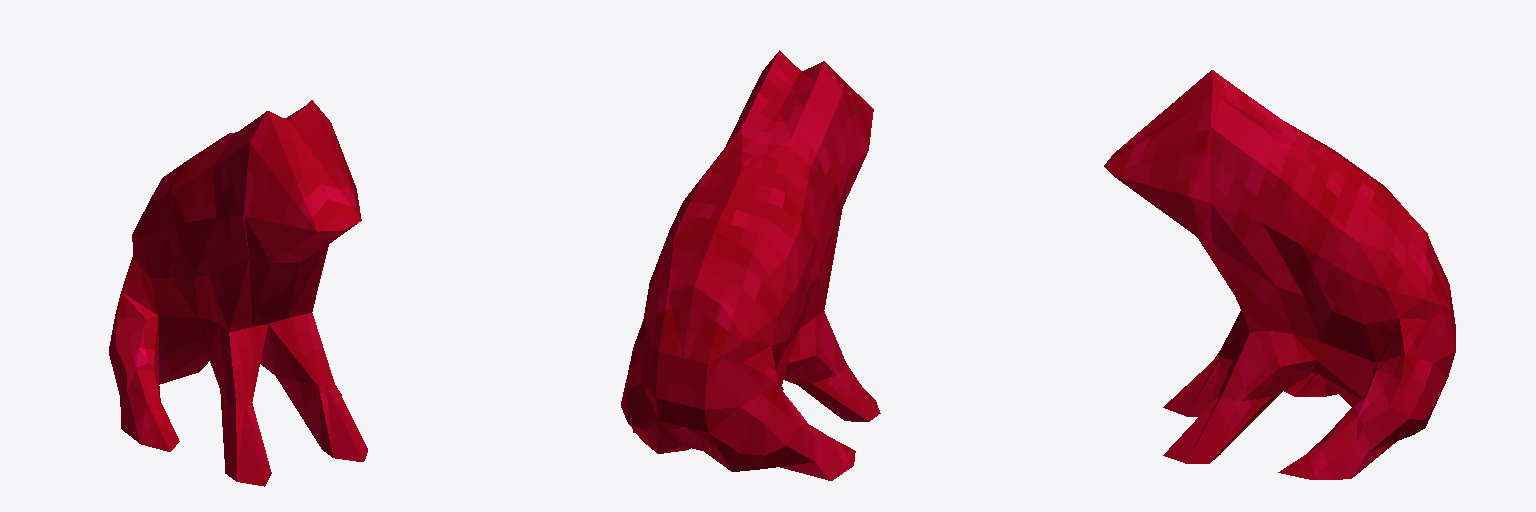
3 views of the same model, side by side, from view 1: azimuth 30°, elevation 25°; view 2: azimuth 150°, elevation 25°; view 3: azimuth 270°, elevation 25° (orthographic).
Parts seen in each view (by area): view 1: Frog_Cube; view 2: Frog_Cube; view 3: Frog_Cube.
Boxes of the visible parts, box(x1,y1,x2,y2) form: Frog_Cube: box(109, 100, 367, 486); Frog_Cube: box(621, 50, 880, 480); Frog_Cube: box(1104, 70, 1455, 479).
Bounding box in the file's own units: 2.06 × 3.42 × 3.11.
Materials: 1 (1 with a texture image).